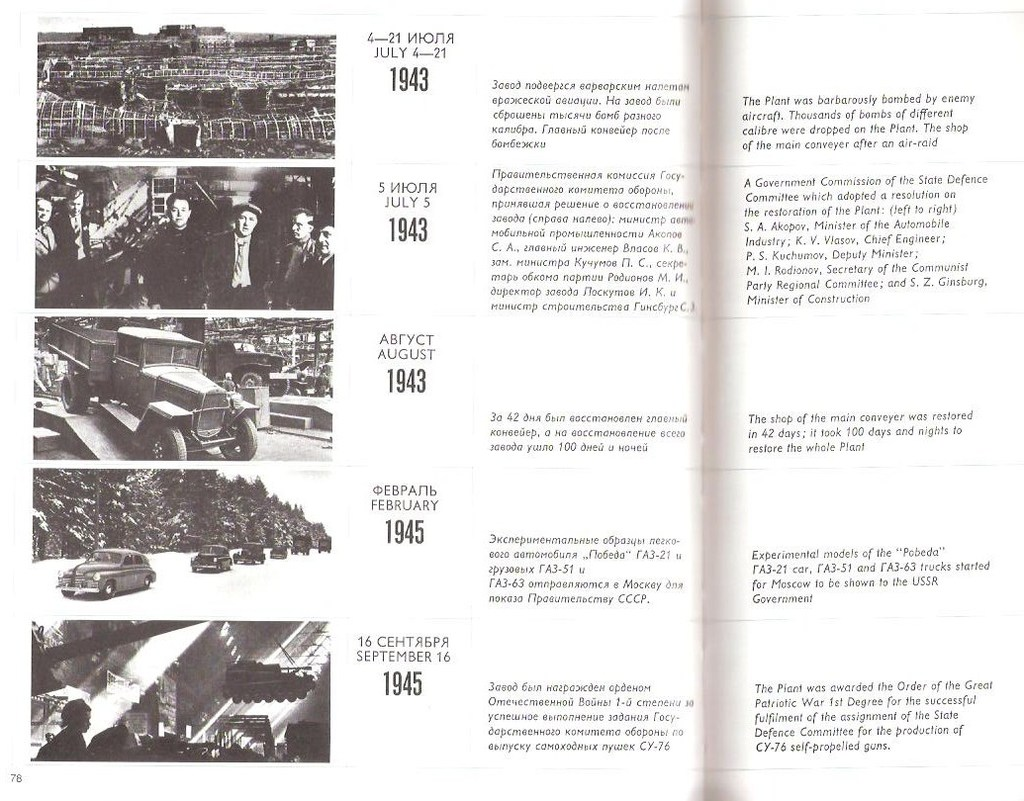Car: (54, 547, 155, 600), (191, 545, 233, 573), (232, 540, 266, 566), (272, 543, 288, 559)
